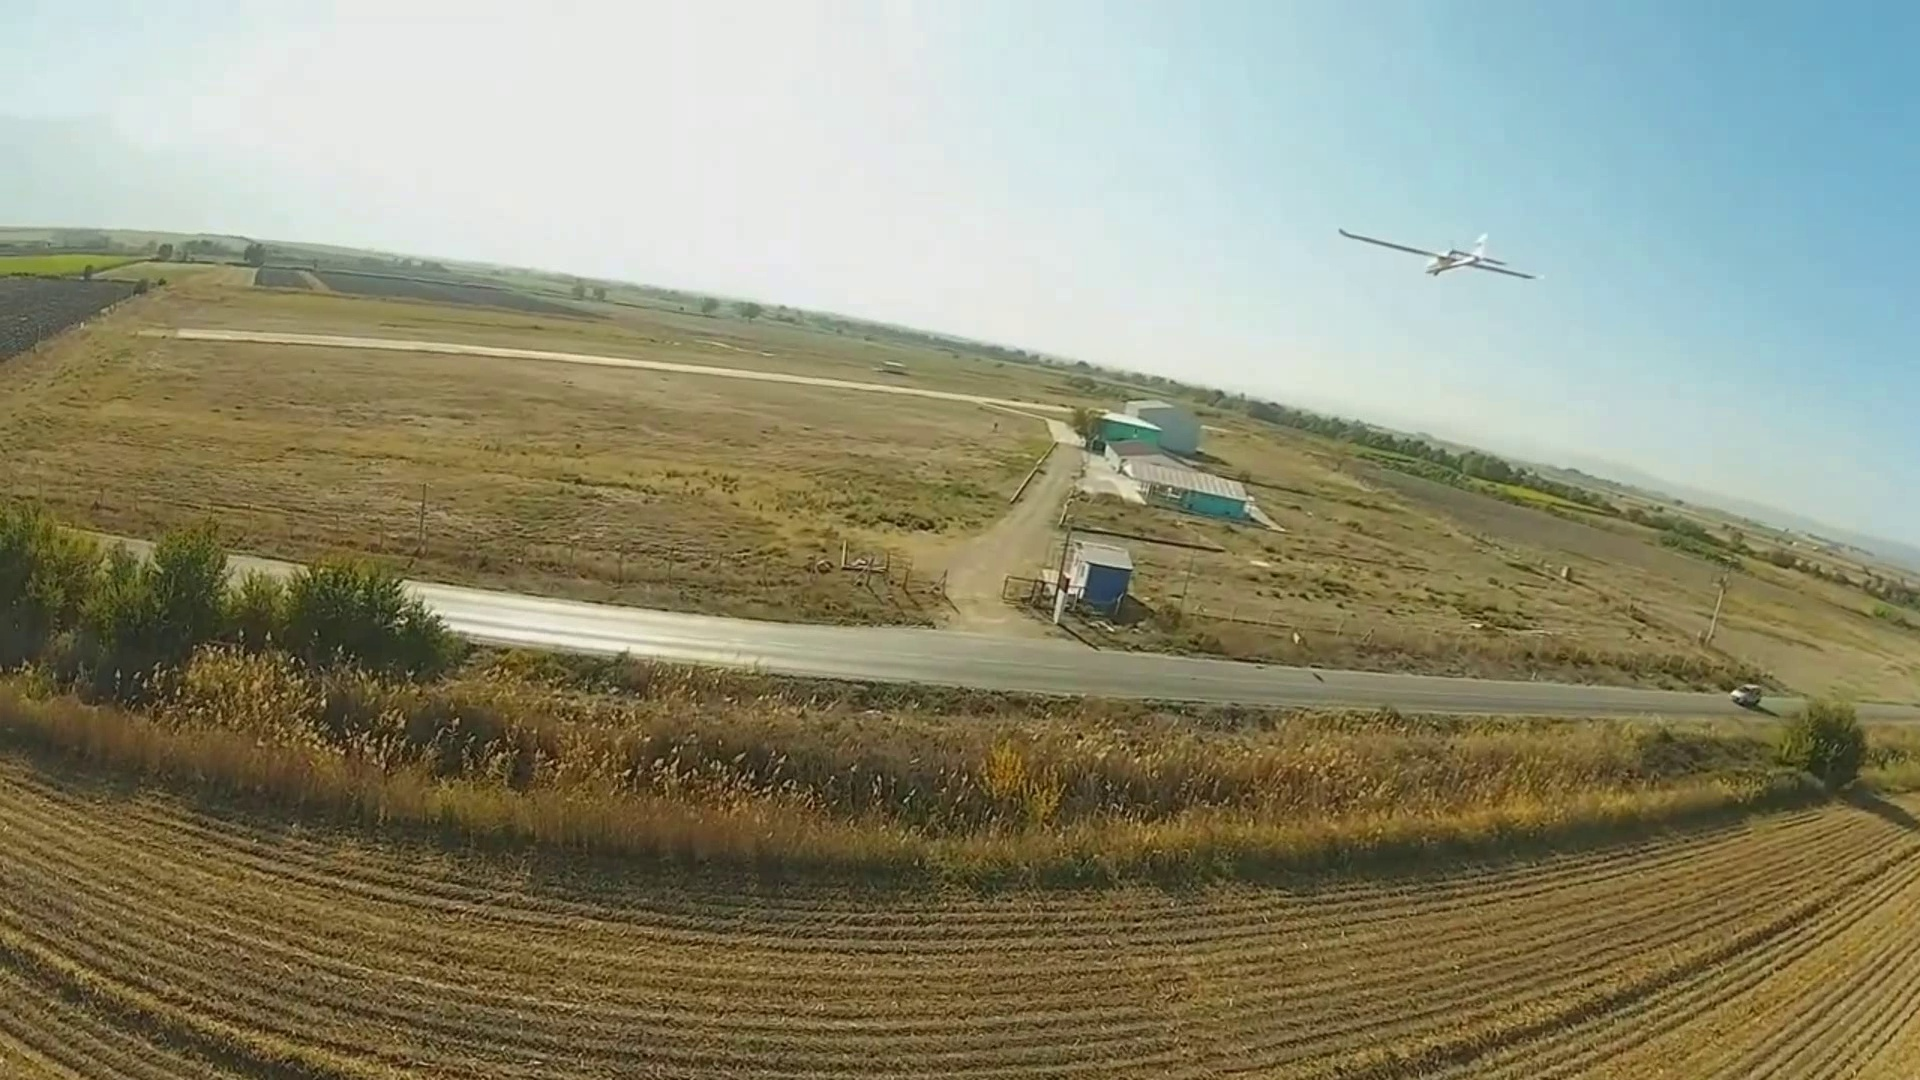airplane: (1335, 222, 1538, 282)
